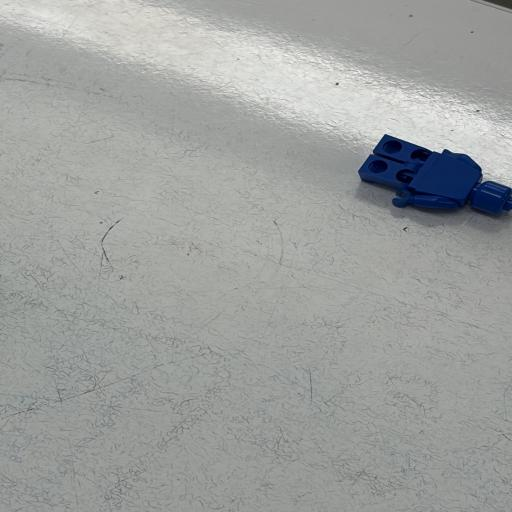Blue-Lego: (358, 135, 512, 215)
